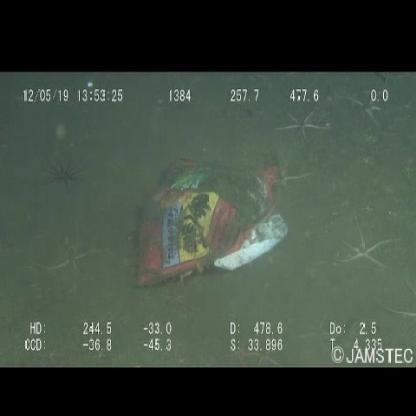Rác: (131, 151, 292, 290)
